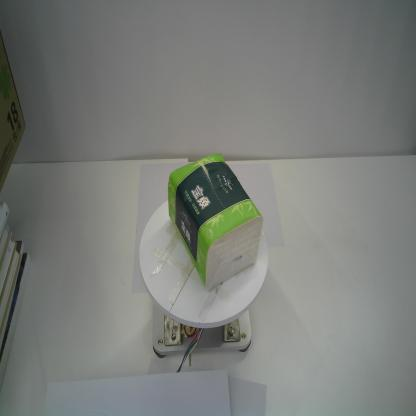Tissue: (166, 152, 264, 292)
